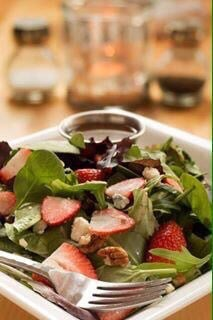burger: (0, 240, 176, 320)
